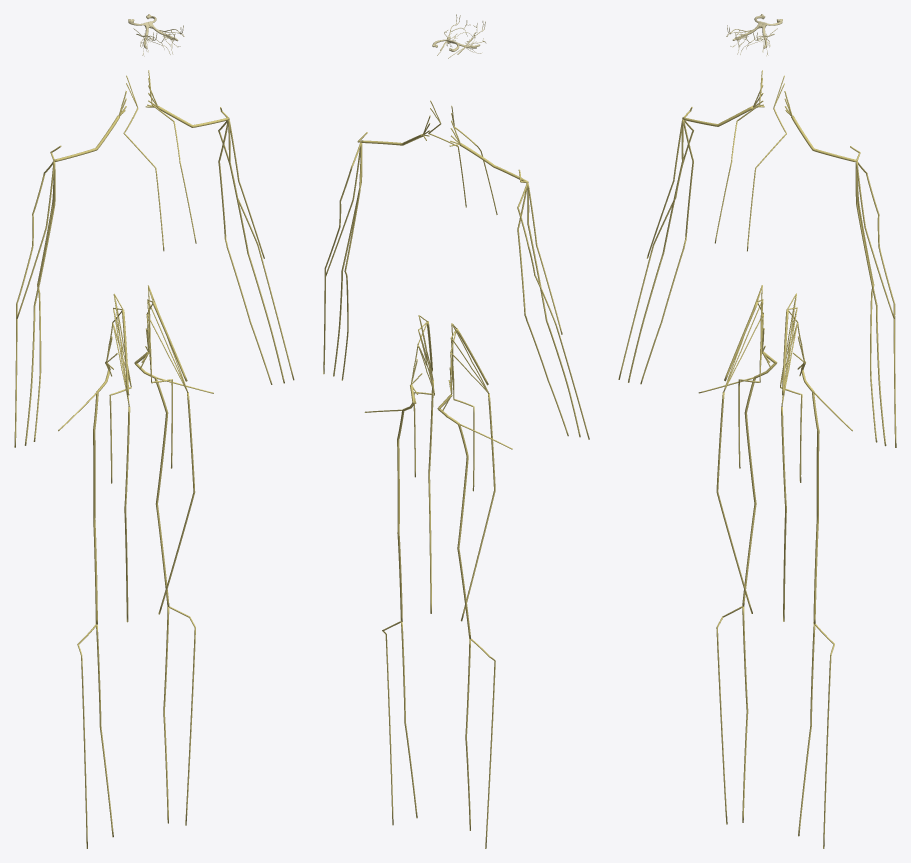
The model's file is nerves.glb.
3 renders of one model, left to right at view 1: azimuth 30°, elevation 25°; view 2: azimuth 150°, elevation 25°; view 3: azimuth 330°, elevation 25°, orthographic. The views are drawn at different scales.
Visible parts, largest first — view 1: nerf-femoral-d, nerf-sciatique-d, nerf-femoral-g, nerf-sciatique-g, nerf-median-d, nerf-median-g, nerf-radial-d, nerf-ulnaire-g, nerf-ulnaire-d; view 2: nerf-sciatique-d, nerf-sciatique-g, nerf-femoral-d, nerf-femoral-g, nerf-radial-d, nerf-median-d, nerf-ulnaire-d; view 3: nerf-sciatique-g, nerf-femoral-d, nerf-femoral-g, nerf-sciatique-d, nerf-median-g, nerf-radial-g, nerf-median-d, nerf-ulnaire-d, nerf-ulnaire-g.
Part boxes in pixels (bbox=[...]): nerf-femoral-d: bbox=[112, 294, 130, 622]; nerf-sciatique-d: bbox=[93, 323, 117, 624]; nerf-femoral-g: bbox=[147, 289, 195, 614]; nerf-sciatique-g: bbox=[134, 321, 169, 606]; nerf-median-d: bbox=[24, 161, 55, 445]; nerf-median-g: bbox=[228, 120, 284, 383]; nerf-radial-d: bbox=[14, 161, 53, 447]; nerf-ulnaire-g: bbox=[218, 120, 272, 384]; nerf-ulnaire-d: bbox=[33, 177, 53, 441]; nerf-sciatique-d: bbox=[437, 353, 470, 638]; nerf-sciatique-g: bbox=[397, 344, 422, 621]; nerf-femoral-d: bbox=[451, 323, 495, 621]; nerf-femoral-g: bbox=[418, 315, 433, 613]; nerf-radial-d: bbox=[517, 183, 589, 439]; nerf-median-d: bbox=[527, 187, 580, 437]; nerf-ulnaire-d: bbox=[517, 185, 568, 436]; nerf-sciatique-g: bbox=[793, 323, 819, 623]; nerf-femoral-d: bbox=[716, 289, 763, 613]; nerf-femoral-g: bbox=[781, 294, 797, 621]; nerf-sciatique-d: bbox=[742, 321, 777, 606]; nerf-median-g: bbox=[855, 161, 886, 446]; nerf-radial-g: bbox=[857, 161, 896, 447]; nerf-median-d: bbox=[628, 119, 683, 382]; nerf-ulnaire-d: bbox=[640, 120, 693, 384]; nerf-ulnaire-g: bbox=[857, 176, 877, 442].
Size of the model in its own units: 0.5544 by 1.58 by 0.2017.
